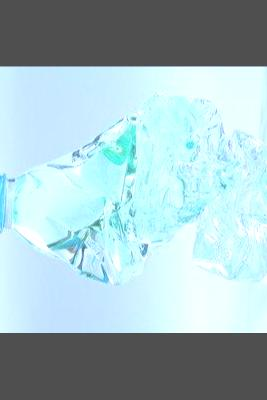bottle: (0, 80, 267, 295)
